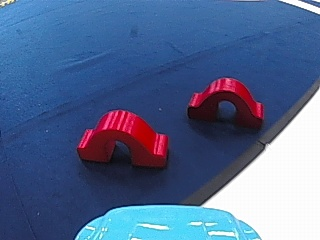bridge: (72, 104, 172, 167), (184, 74, 270, 127)
